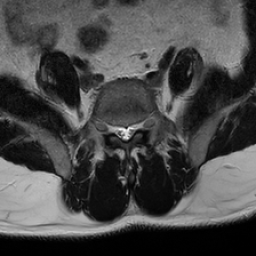CCS_stenosis: (121, 115, 129, 148)
LFS_normal: (136, 113, 144, 139)
LLS_normal: (129, 115, 136, 142)
RFS_normal: (105, 114, 113, 139)
RLS_normal: (113, 116, 121, 145)
